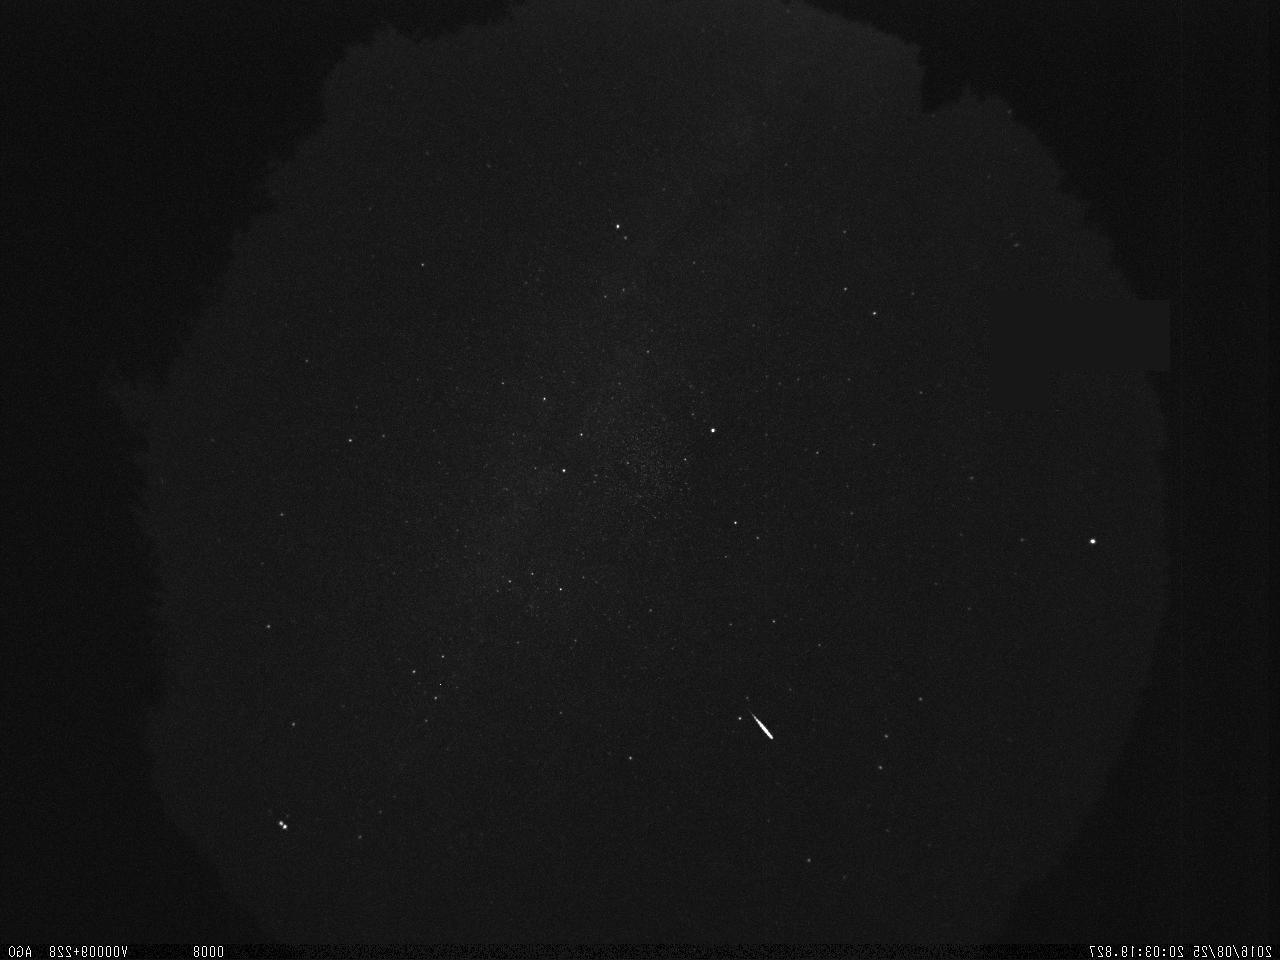meteor: (732, 705, 791, 748)
